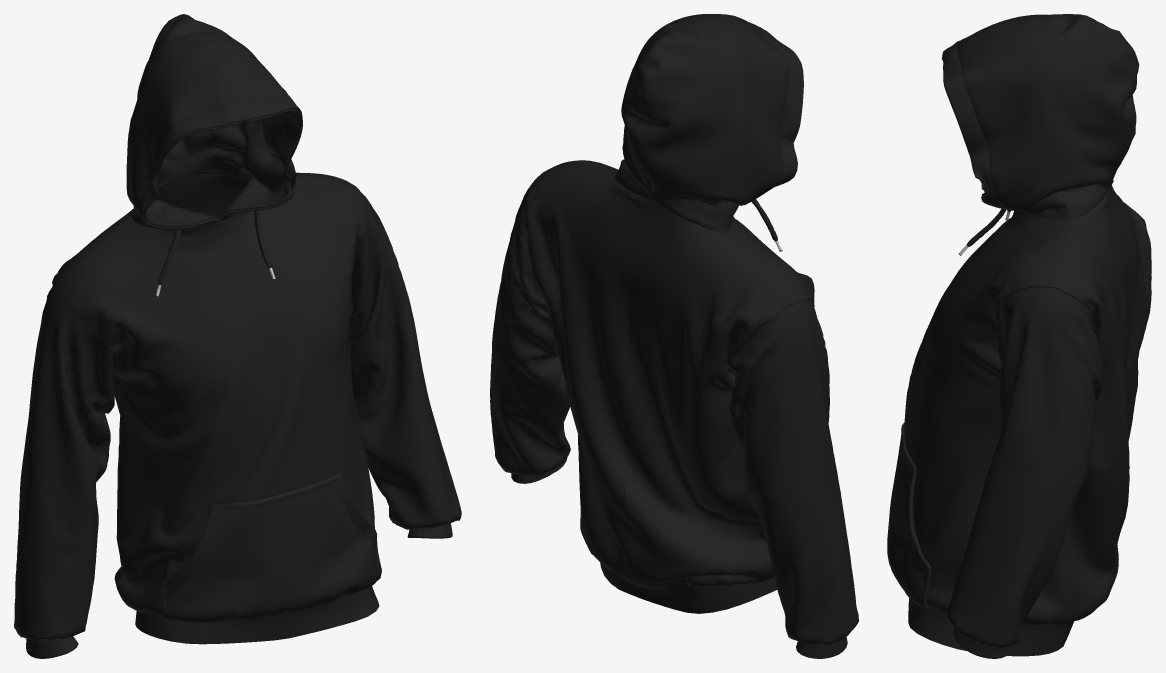
File: hoodie.glb
3 views of the same model, side by side, from view 1: azimuth 30°, elevation 25°; view 2: azimuth 150°, elevation 25°; view 3: azimuth 270°, elevation 25° (orthographic). The views are drawn at different scales.
Visible parts, largest first — view 1: Object_3, Object_4, Object_5; view 2: Object_3, Object_5; view 3: Object_3, Object_5.
Part boxes in pixels (x1,y1,x2,y2): Object_3: (14, 14, 461, 657); Object_4: (99, 111, 298, 412); Object_5: (28, 18, 452, 658); Object_3: (490, 14, 858, 657); Object_5: (512, 16, 846, 658); Object_3: (887, 14, 1151, 657); Object_5: (901, 16, 1137, 658).
Bounding box in the file's own units: 633 × 907 × 362.
Materials: 2 (2 with a texture image).
